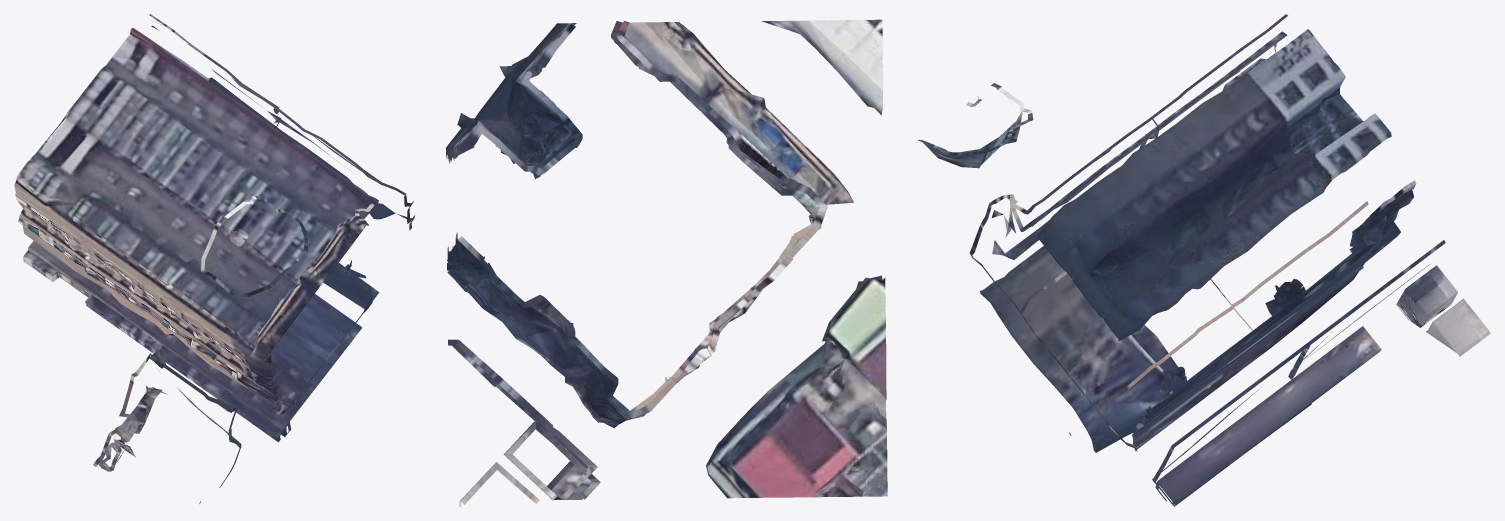
3 views of the same model, side by side, from view 1: azimuth 30°, elevation 25°; view 2: azimuth 150°, elevation 25°; view 3: azimuth 270°, elevation 25° (orthographic). The views are drawn at different scales.
Bounding box in the file's own units: 43.6 × 50.23 × 59.39.
2 materials, 2 textured.
